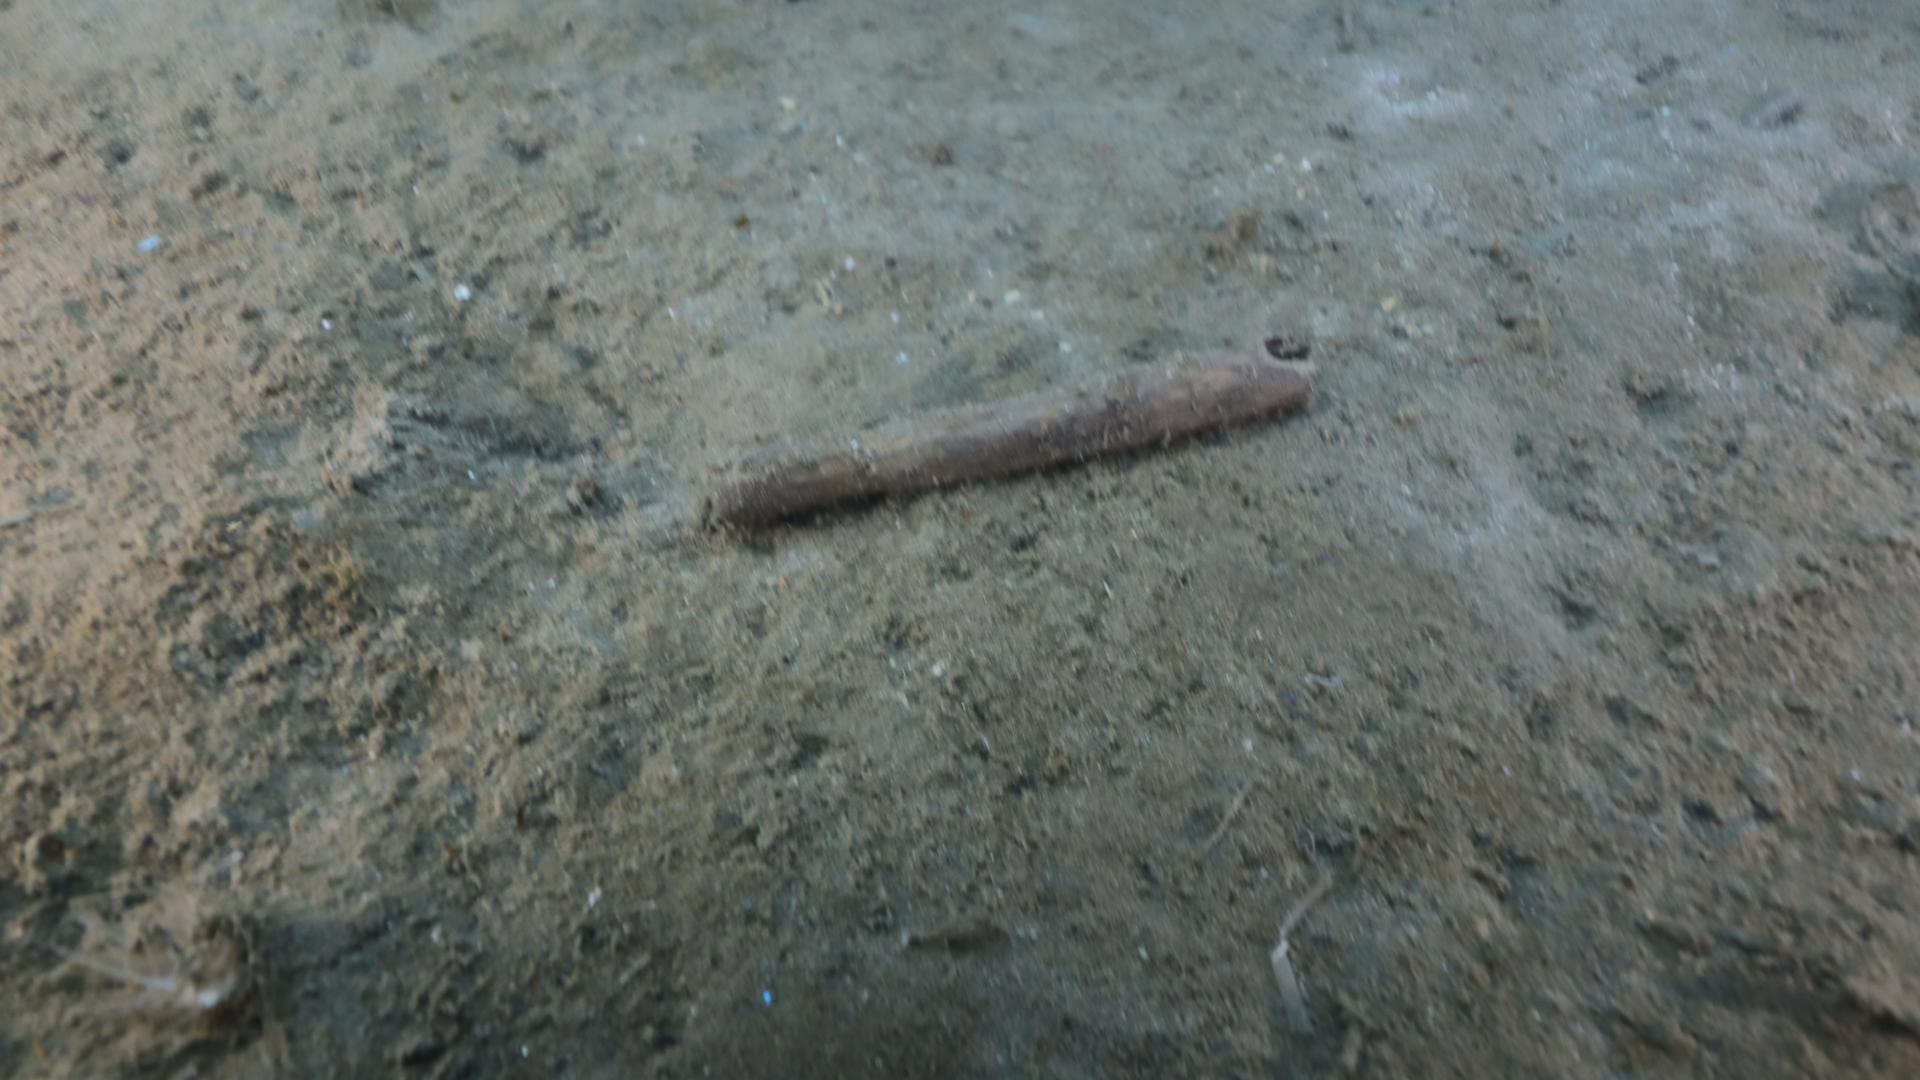wood: (696, 328, 1312, 537)
